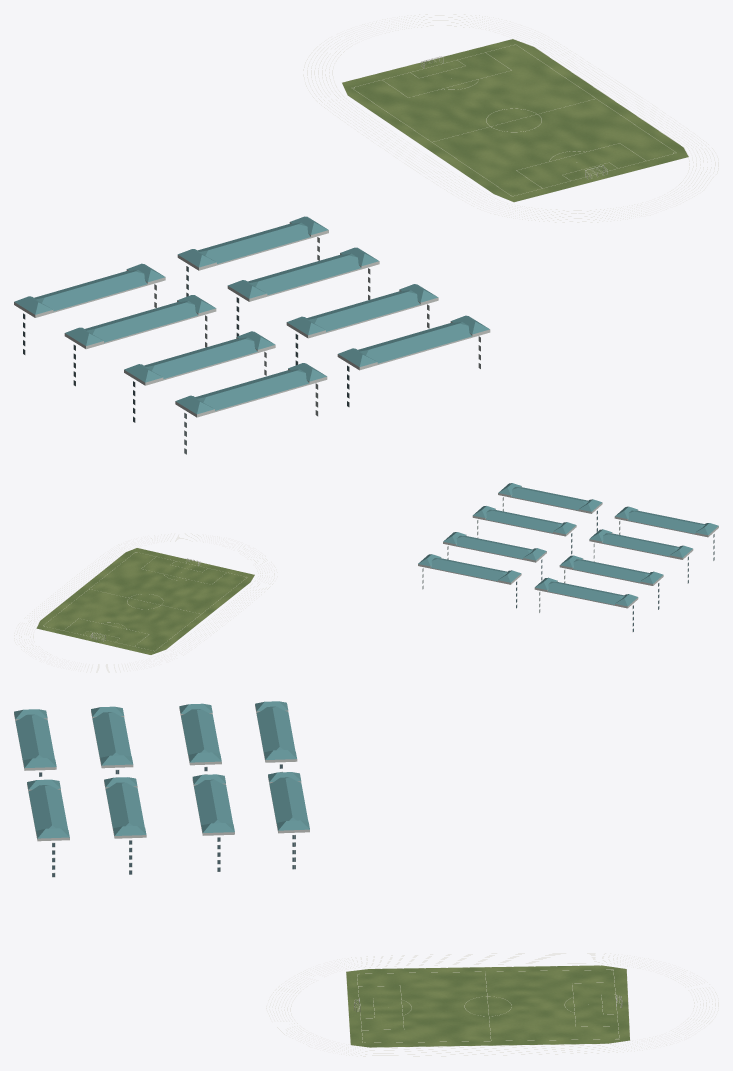
The model's file is SEU_building_patch_v19.glb.
3 renders of one model, top to bottom at view 1: azimuth 30°, elevation 25°; view 2: azimuth 150°, elevation 25°; view 3: azimuth 270°, elevation 25°, orthographic. The views are drawn at different scales.
Visible parts, largest first — view 1: SEU_TAOYUAN_TRACK_DETAIL_TURF, SEU_B_OSMWAY_630136428__DORM_ENDHEAD_central_roof, SEU_B_OSMWAY_630136424__DORM_ENDHEAD_central_roof, SEU_B_OSMWAY_630136426__DORM_ENDHEAD_central_roof, SEU_B_OSMWAY_630136427__DORM_ENDHEAD_central_roof, SEU_B_OSMWAY_630136422__DORM_ENDHEAD_central_roof, SEU_B_OSMWAY_630136421__DORM_ENDHEAD_central_roof, SEU_B_OSMWAY_630136423__DORM_ENDHEAD_central_roof, SEU_B_OSMWAY_630136425__DORM_ENDHEAD_central_roof, SEU_TAOYUAN_TRACK_DETAIL_FOOTBALL_MARKINGS, SEU_B_OSMWAY_630136428__DORM_ENDHEAD_end_hip_caps, SEU_B_OSMWAY_630136426__DORM_ENDHEAD_end_hip_caps (+6 smaller); view 2: SEU_TAOYUAN_TRACK_DETAIL_TURF, SEU_B_OSMWAY_630136428__DORM_ENDHEAD_central_roof, SEU_B_OSMWAY_630136424__DORM_ENDHEAD_central_roof, SEU_B_OSMWAY_630136426__DORM_ENDHEAD_central_roof, SEU_B_OSMWAY_630136422__DORM_ENDHEAD_central_roof, SEU_B_OSMWAY_630136421__DORM_ENDHEAD_central_roof, SEU_B_OSMWAY_630136423__DORM_ENDHEAD_central_roof, SEU_B_OSMWAY_630136427__DORM_ENDHEAD_central_roof, SEU_B_OSMWAY_630136425__DORM_ENDHEAD_central_roof; view 3: SEU_TAOYUAN_TRACK_DETAIL_TURF, SEU_B_OSMWAY_630136428__DORM_ENDHEAD_central_roof, SEU_B_OSMWAY_630136424__DORM_ENDHEAD_central_roof, SEU_B_OSMWAY_630136426__DORM_ENDHEAD_central_roof, SEU_B_OSMWAY_630136427__DORM_ENDHEAD_central_roof, SEU_B_OSMWAY_630136421__DORM_ENDHEAD_central_roof, SEU_B_OSMWAY_630136422__DORM_ENDHEAD_central_roof, SEU_B_OSMWAY_630136425__DORM_ENDHEAD_central_roof, SEU_B_OSMWAY_630136423__DORM_ENDHEAD_central_roof, SEU_B_OSMWAY_630136428__DORM_ENDHEAD_end_hip_caps, SEU_B_OSMWAY_630136426__DORM_ENDHEAD_end_hip_caps, SEU_TAOYUAN_TRACK_DETAIL_FOOTBALL_MARKINGS (+2 smaller).
Boxes of the visible parts, x1,y1,x2,y2 form: SEU_TAOYUAN_TRACK_DETAIL_TURF: (342, 39, 688, 201); SEU_B_OSMWAY_630136428__DORM_ENDHEAD_central_roof: (358, 322, 471, 363); SEU_B_OSMWAY_630136424__DORM_ENDHEAD_central_roof: (195, 369, 308, 410); SEU_B_OSMWAY_630136426__DORM_ENDHEAD_central_roof: (248, 253, 360, 295); SEU_B_OSMWAY_630136427__DORM_ENDHEAD_central_roof: (307, 290, 420, 331); SEU_B_OSMWAY_630136422__DORM_ENDHEAD_central_roof: (85, 301, 197, 342); SEU_B_OSMWAY_630136421__DORM_ENDHEAD_central_roof: (34, 270, 147, 311); SEU_B_OSMWAY_630136423__DORM_ENDHEAD_central_roof: (144, 337, 257, 378); SEU_B_OSMWAY_630136425__DORM_ENDHEAD_central_roof: (198, 222, 310, 263); SEU_TAOYUAN_TRACK_DETAIL_FOOTBALL_MARKINGS: (352, 44, 676, 196); SEU_B_OSMWAY_630136428__DORM_ENDHEAD_end_hip_caps: (338, 315, 489, 367); SEU_B_OSMWAY_630136426__DORM_ENDHEAD_end_hip_caps: (228, 247, 378, 298); SEU_TAOYUAN_TRACK_DETAIL_TURF: (36, 548, 254, 654); SEU_B_OSMWAY_630136428__DORM_ENDHEAD_central_roof: (511, 487, 588, 510); SEU_B_OSMWAY_630136424__DORM_ENDHEAD_central_roof: (628, 510, 704, 533); SEU_B_OSMWAY_630136426__DORM_ENDHEAD_central_roof: (456, 535, 532, 558); SEU_B_OSMWAY_630136422__DORM_ENDHEAD_central_roof: (573, 559, 649, 582); SEU_B_OSMWAY_630136421__DORM_ENDHEAD_central_roof: (547, 581, 624, 604); SEU_B_OSMWAY_630136423__DORM_ENDHEAD_central_roof: (602, 533, 679, 556); SEU_B_OSMWAY_630136427__DORM_ENDHEAD_central_roof: (485, 509, 562, 532); SEU_B_OSMWAY_630136425__DORM_ENDHEAD_central_roof: (431, 558, 507, 581); SEU_TAOYUAN_TRACK_DETAIL_TURF: (346, 965, 629, 1047); SEU_B_OSMWAY_630136428__DORM_ENDHEAD_central_roof: (28, 785, 67, 830); SEU_B_OSMWAY_630136424__DORM_ENDHEAD_central_roof: (15, 714, 54, 760); SEU_B_OSMWAY_630136426__DORM_ENDHEAD_central_roof: (194, 779, 232, 825); SEU_B_OSMWAY_630136427__DORM_ENDHEAD_central_roof: (105, 782, 144, 828); SEU_B_OSMWAY_630136421__DORM_ENDHEAD_central_roof: (256, 706, 295, 752); SEU_B_OSMWAY_630136422__DORM_ENDHEAD_central_roof: (181, 709, 219, 754); SEU_B_OSMWAY_630136425__DORM_ENDHEAD_central_roof: (269, 777, 308, 822); SEU_B_OSMWAY_630136423__DORM_ENDHEAD_central_roof: (92, 712, 131, 757); SEU_B_OSMWAY_630136428__DORM_ENDHEAD_end_hip_caps: (27, 779, 69, 838); SEU_B_OSMWAY_630136426__DORM_ENDHEAD_end_hip_caps: (192, 774, 234, 832); SEU_TAOYUAN_TRACK_DETAIL_FOOTBALL_MARKINGS: (357, 969, 619, 1042).
Size of the model in its own units: 282 by 23.03 by 275.
10 materials, 1 textured.
